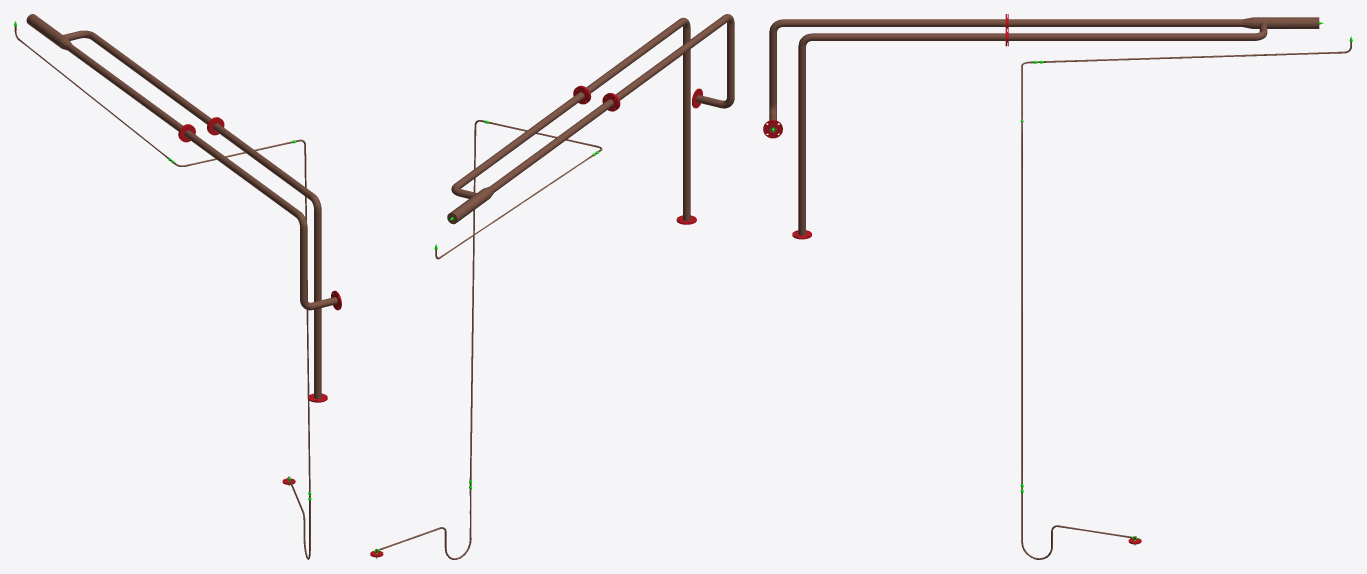
File: Phase44a.fbx
The picture shows the model from 3 angles, left to right: view 1: azimuth 30°, elevation 25°; view 2: azimuth 150°, elevation 25°; view 3: azimuth 270°, elevation 25°; orthographic projection. The views are drawn at different scales.
Visible parts, largest first — view 1: Типы трубопроводов:CPS_Бесшовная труба из нс:1453961, Типы трубопроводов:CPS_Бесшовная труба из нс:1396400, Типы трубопроводов:CPS_Бесшовная труба из нс:1396765, Типы трубопроводов:CPS_Бесшовная труба из нс:1355898, Типы трубопроводов:CPS_Бесшовная труба из нс:1355896, Труба_1:Исполнение 1:1418813, 48.53.02.00.003-1 Трубопровод:48.55.08.01.002 Патрубок:14503, Типы трубопроводов:CPS_Бесшовная труба из нс:1278402; view 2: Типы трубопроводов:CPS_Бесшовная труба из нс:1453961, Типы трубопроводов:CPS_Бесшовная труба из нс:1396400, Типы трубопроводов:CPS_Бесшовная труба из нс:1396765, Типы трубопроводов:CPS_Бесшовная труба из нс:1355898, Типы трубопроводов:CPS_Бесшовная труба из нс:1355896, 48.53.02.00.003-1 Трубопровод:48.55.08.01.002 Патрубок:14503, Труба_1:Исполнение 1:1418813, Типы трубопроводов:CPS_Бесшовная труба из нс:1278402; view 3: Типы трубопроводов:CPS_Бесшовная труба из нс:1396400, Типы трубопроводов:CPS_Бесшовная труба из нс:1396765, Типы трубопроводов:CPS_Бесшовная труба из нс:1355898, Типы трубопроводов:CPS_Бесшовная труба из нс:1355896, Типы трубопроводов:CPS_Бесшовная труба из нс:1453961, Труба_1:Исполнение 1:1418813, 48.53.02.00.003 Трубопровод:48.55.08.01.002 Патрубок:1450350, 48.53.02.00.003-1 Трубопровод:48.55.08.01.002 Патрубок:14503.
Boxes of the visible parts, <box> form: Типы трубопроводов:CPS_Бесшовная труба из нс:1453961: <box>314,210,321,398</box>; Типы трубопроводов:CPS_Бесшовная труба из нс:1396400: <box>89,33,211,124</box>; Типы трубопроводов:CPS_Бесшовная труба из нс:1396765: <box>66,43,182,131</box>; Типы трубопроводов:CPS_Бесшовная труба из нс:1355898: <box>184,130,299,217</box>; Типы трубопроводов:CPS_Бесшовная труба из нс:1355896: <box>213,123,313,199</box>; Труба_1:Исполнение 1:1418813: <box>26,14,81,48</box>; 48.53.02.00.003-1 Трубопровод:48.55.08.01.002 Патрубок:14503: <box>295,139,310,491</box>; Типы трубопроводов:CPS_Бесшовная труба из нс:1278402: <box>300,228,307,300</box>; Типы трубопроводов:CPS_Бесшовная труба из нс:1453961: <box>683,28,690,220</box>; Типы трубопроводов:CPS_Бесшовная труба из нс:1396400: <box>455,92,584,188</box>; Типы трубопроводов:CPS_Бесшовная труба из нс:1396765: <box>490,99,613,192</box>; Типы трубопроводов:CPS_Бесшовная труба из нс:1355898: <box>615,15,728,100</box>; Типы трубопроводов:CPS_Бесшовная труба из нс:1355896: <box>586,18,684,93</box>; 48.53.02.00.003-1 Трубопровод:48.55.08.01.002 Патрубок:14503: <box>469,120,484,480</box>; Труба_1:Исполнение 1:1418813: <box>447,188,491,224</box>; Типы трубопроводов:CPS_Бесшовная труба из нс:1278402: <box>727,25,734,98</box>; Типы трубопроводов:CPS_Бесшовная труба из нс:1396400: <box>1008,33,1253,40</box>; Типы трубопроводов:CPS_Бесшовная труба из нс:1396765: <box>1008,19,1242,26</box>; Типы трубопроводов:CPS_Бесшовная труба из нс:1355898: <box>783,19,1005,26</box>; Типы трубопроводов:CPS_Бесшовная труба из нс:1355896: <box>812,33,1005,40</box>; Типы трубопроводов:CPS_Бесшовная труба из нс:1453961: <box>798,46,805,235</box>; Труба_1:Исполнение 1:1418813: <box>1253,17,1319,31</box>; 48.53.02.00.003 Трубопровод:48.55.08.01.002 Патрубок:1450350: <box>1043,42,1351,62</box>; 48.53.02.00.003-1 Трубопровод:48.55.08.01.002 Патрубок:14503: <box>1021,121,1022,483</box>.
Size of the model in its own units: 1568 by 4452 by 3989.
